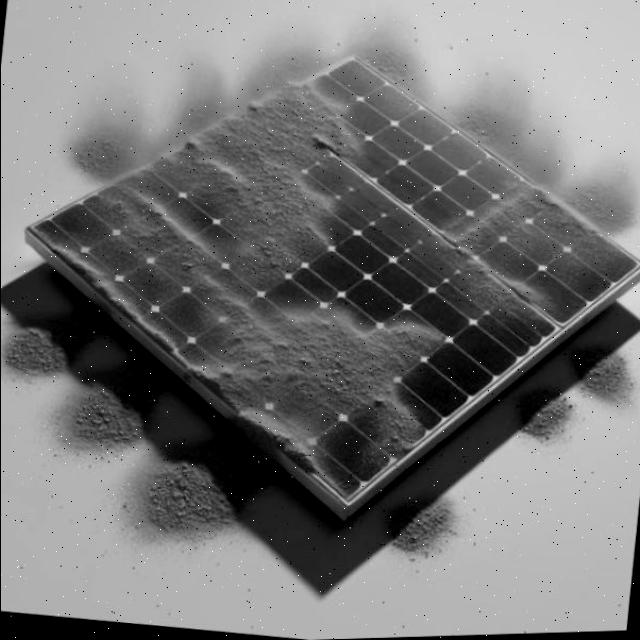Anomaly Solar Panel: (27, 60, 640, 506)
Surface Contaminant: (28, 1, 557, 514), (428, 152, 628, 350)
